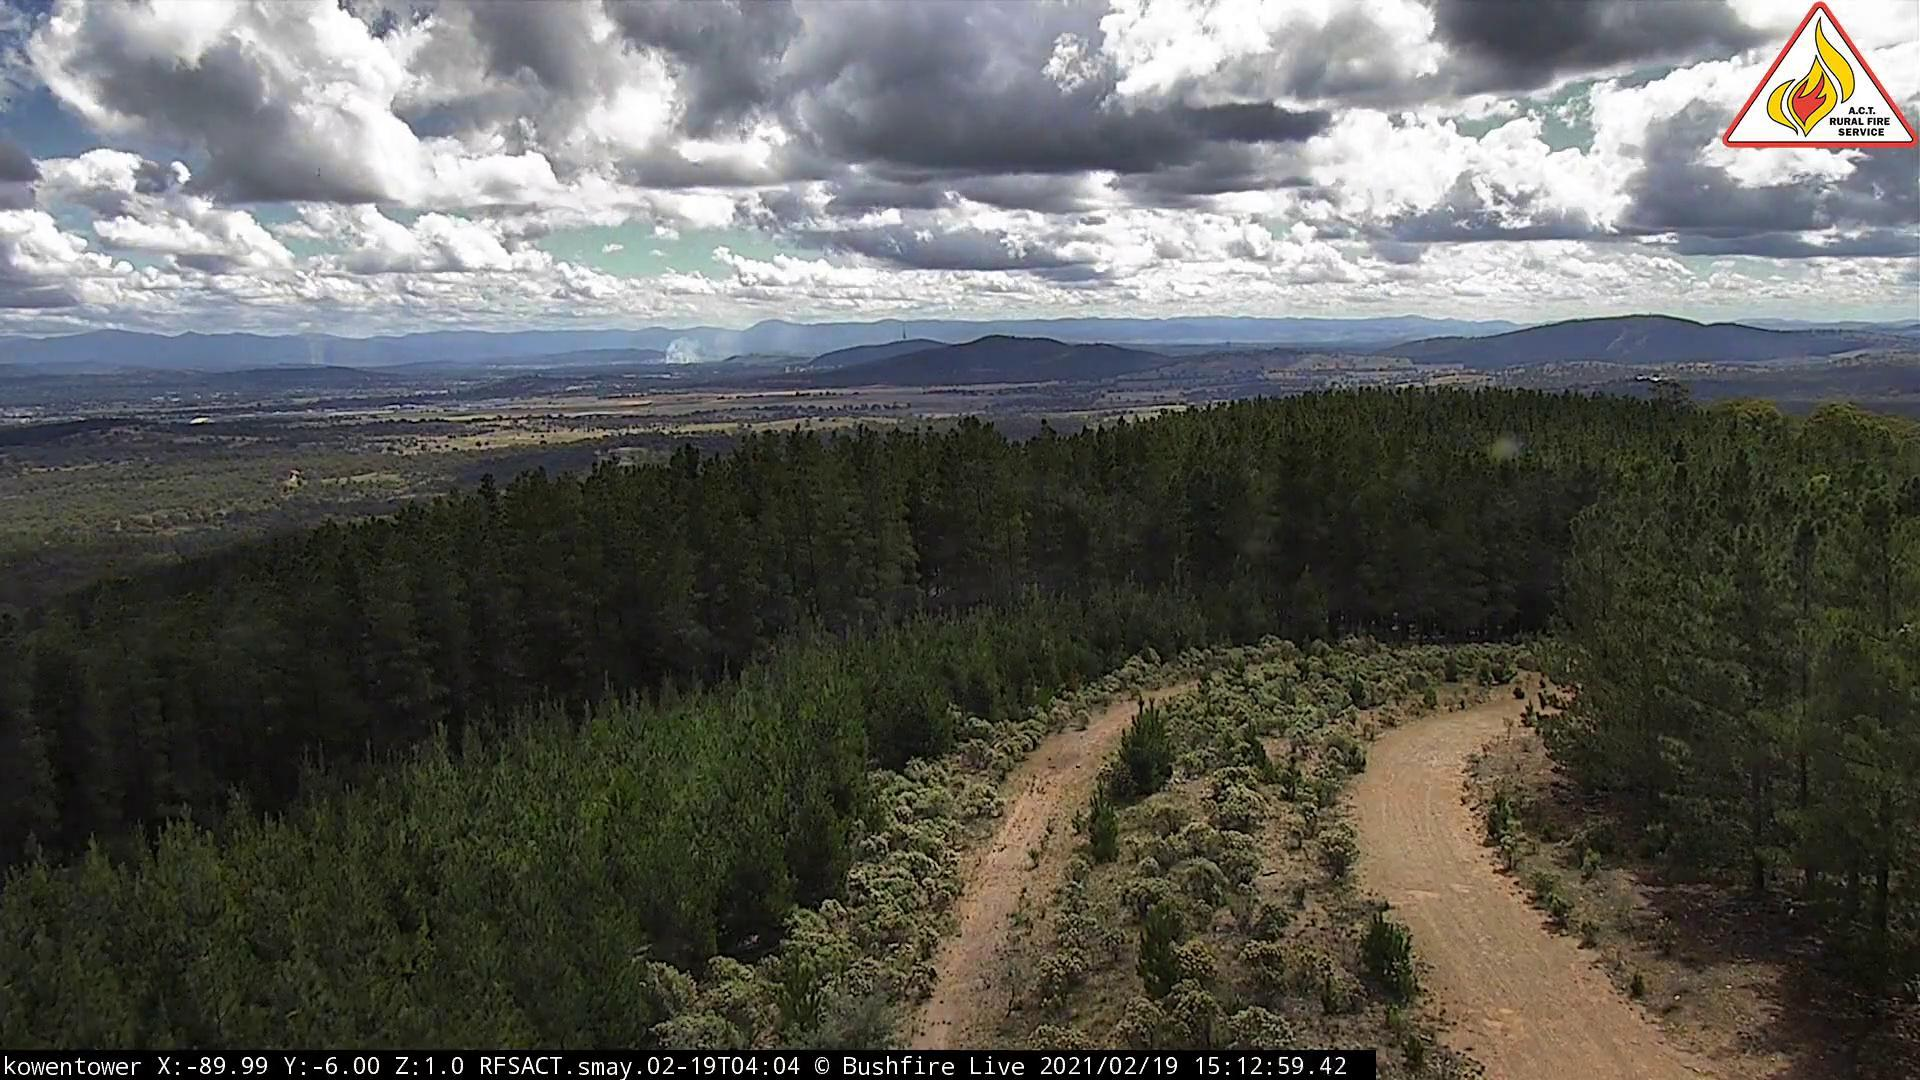Smoke: (287, 297, 386, 375), (661, 297, 764, 371)
